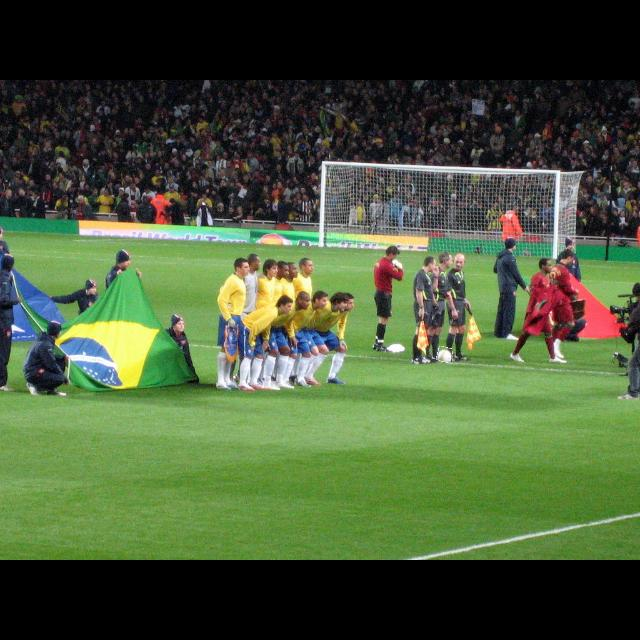Football: (438, 348, 452, 362)
